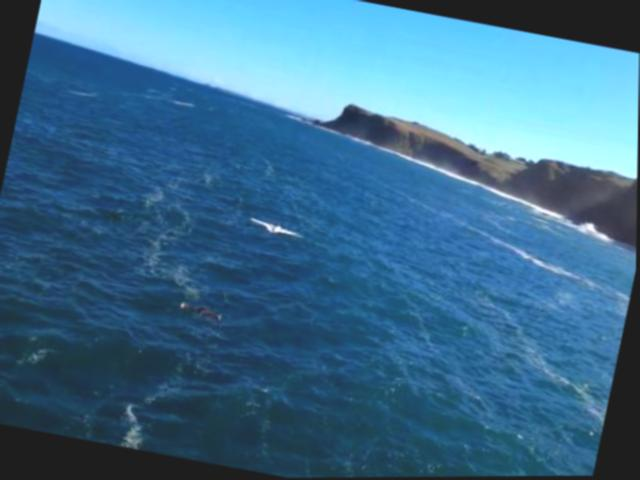uav: (246, 213, 308, 242)
